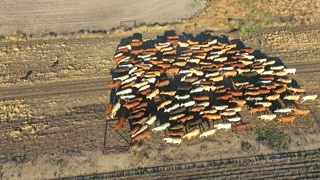sheep: (106, 100, 129, 120), (115, 62, 144, 77), (215, 88, 237, 103), (257, 110, 277, 126), (276, 104, 294, 121), (218, 106, 241, 119), (276, 115, 297, 129), (201, 107, 218, 124), (205, 49, 223, 65), (179, 51, 198, 66), (214, 121, 237, 133), (225, 115, 248, 127), (131, 124, 146, 142), (126, 95, 150, 106), (143, 118, 165, 130), (131, 39, 147, 54), (136, 88, 150, 105), (129, 69, 147, 82), (201, 128, 220, 140), (135, 53, 152, 66), (171, 39, 189, 51), (195, 79, 210, 93), (291, 108, 308, 120), (154, 79, 171, 91), (168, 102, 181, 117), (161, 137, 182, 146), (244, 94, 261, 105), (155, 98, 172, 109), (161, 67, 178, 78), (243, 58, 261, 68), (131, 111, 146, 123), (186, 128, 199, 141), (285, 90, 299, 102), (302, 92, 317, 103), (257, 100, 272, 111), (225, 52, 240, 63), (193, 94, 208, 105), (181, 101, 197, 111), (285, 67, 302, 76), (155, 44, 168, 55), (160, 88, 177, 96), (123, 82, 135, 93), (260, 57, 276, 65), (267, 90, 279, 100), (210, 71, 219, 82), (183, 66, 192, 77), (275, 69, 286, 77), (273, 63, 283, 70), (161, 55, 171, 61)
